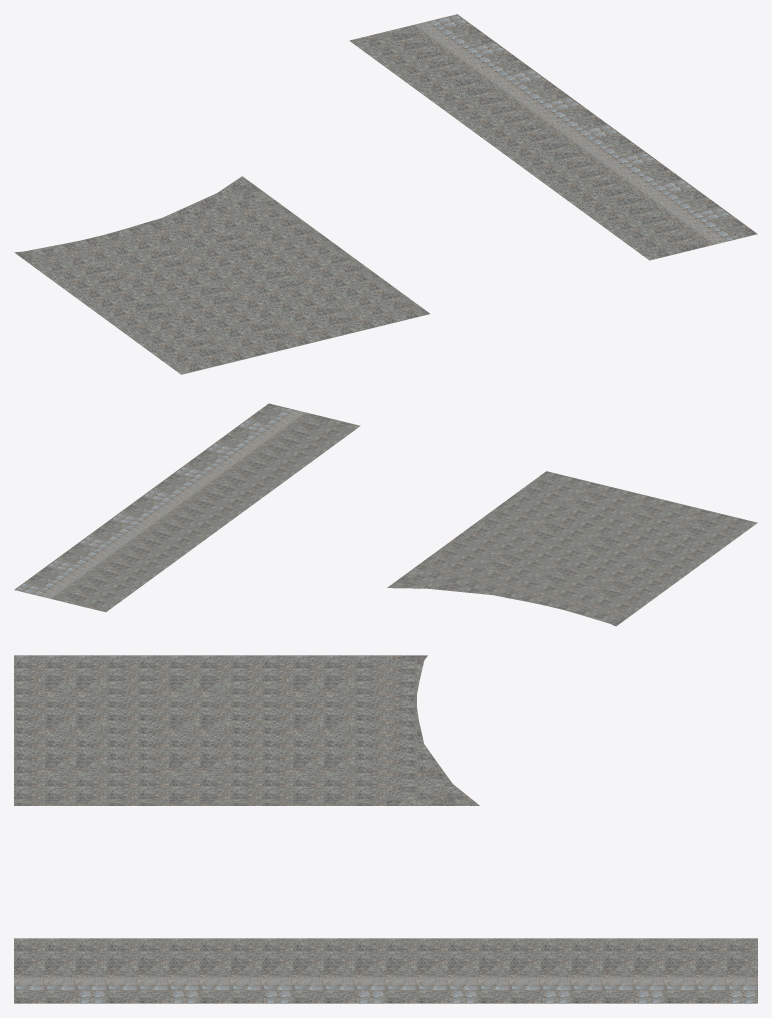
File: Ground05.fbx
The picture shows the model from 3 angles, top to bottom: view 1: azimuth 30°, elevation 25°; view 2: azimuth 150°, elevation 25°; view 3: azimuth 270°, elevation 25°; orthographic projection. The views are drawn at different scales.
Parts seen in each view (by area): view 1: Plane.005, Plane.006; view 2: Plane.005, Plane.006; view 3: Plane.005, Plane.006.
Part boxes in pixels (bbox=[...]): Plane.005: bbox=[14, 176, 429, 374]; Plane.006: bbox=[349, 14, 757, 260]; Plane.005: bbox=[387, 471, 757, 626]; Plane.006: bbox=[14, 403, 360, 612]; Plane.005: bbox=[14, 655, 479, 805]; Plane.006: bbox=[14, 938, 757, 1003].
Size of the model in its own units: 26.59 by 5.96e-08 by 24.
